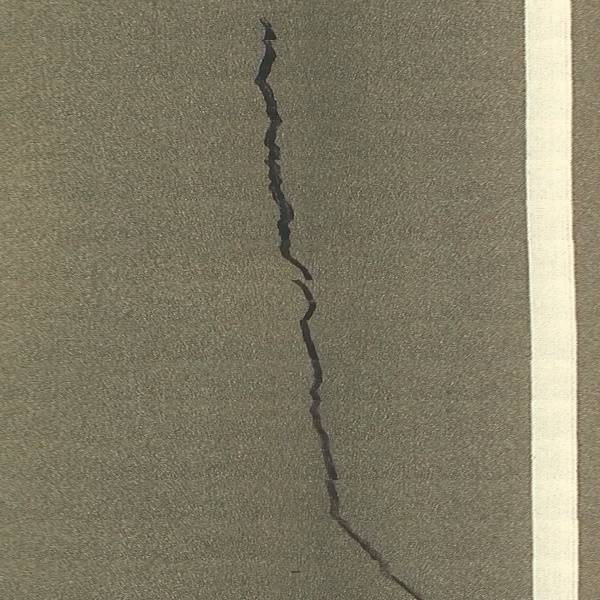road_damage: (246, 11, 423, 600)
